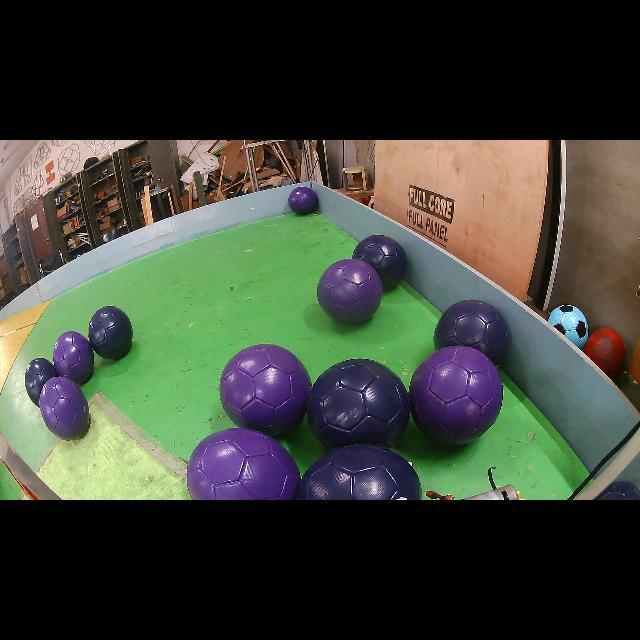B: (308, 359, 410, 449), (298, 444, 421, 500), (435, 300, 510, 365), (352, 235, 408, 290), (89, 306, 132, 359), (25, 358, 58, 407), (595, 480, 640, 500)
P: (410, 346, 502, 445), (220, 344, 311, 435), (186, 428, 300, 500), (318, 259, 382, 324), (39, 376, 90, 440), (54, 331, 94, 384), (289, 186, 318, 215)
R: (583, 324, 627, 376)
